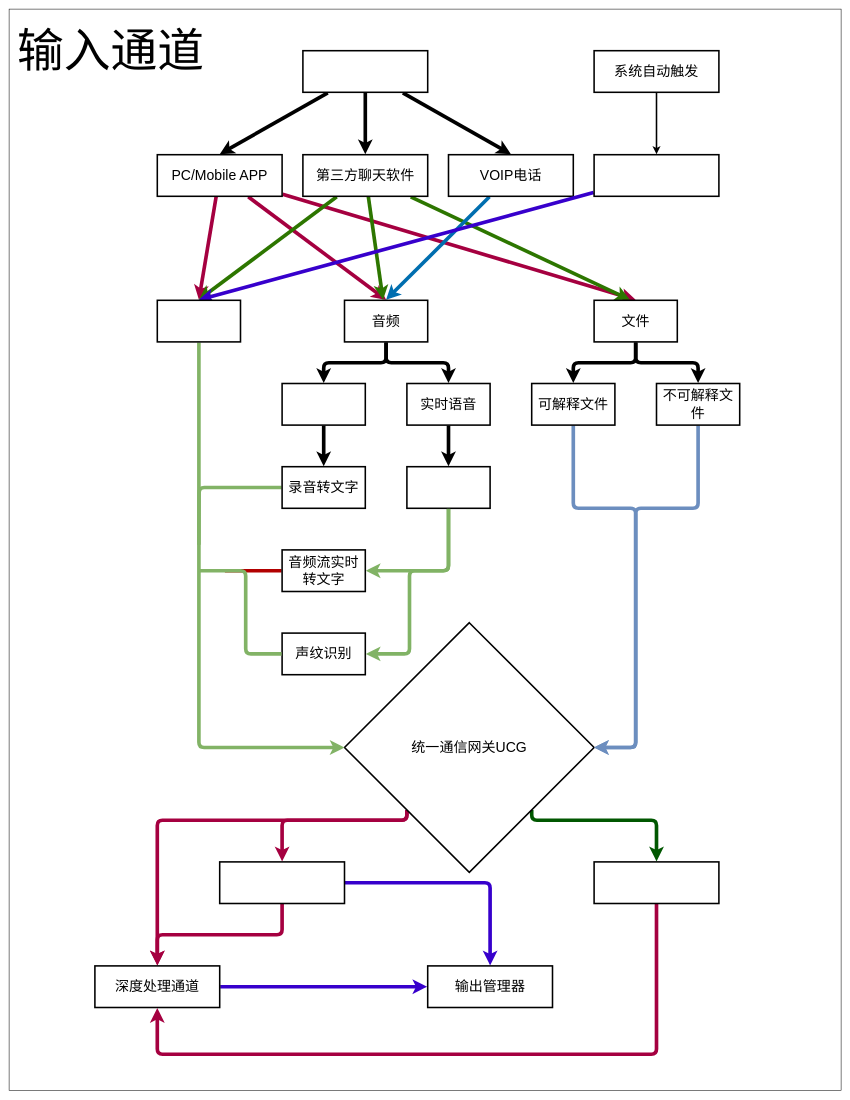
Image size: 850x1100. Some labels were removed from this diagram. Here are the shapes that lost their labels. From the top down, the centre of each, then its label:
point (365, 71): 用户选择
point (656, 175): 定时任务触发
point (198, 320): 文字
point (323, 404): 语音块
point (448, 487): 唤醒词唤醒
point (282, 882): 快速反射通道
point (656, 882): 文件管理系统
